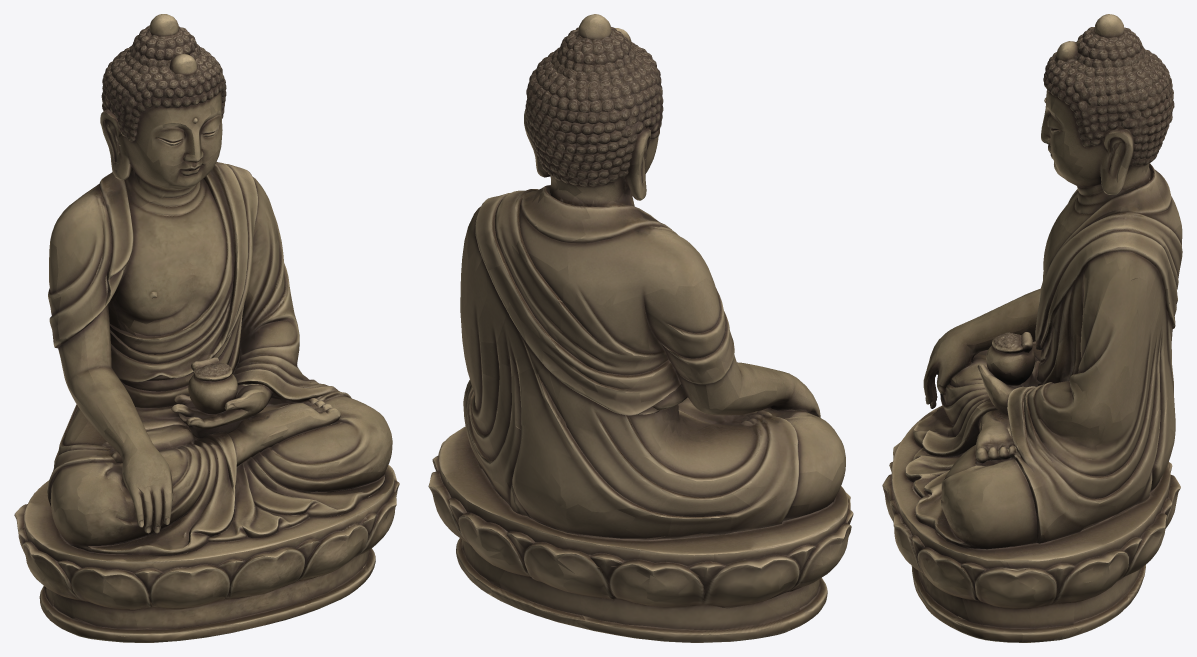
File: Meshy_AI_Korean_style_seated_M_1116074220_texture.glb
3 renders of one model, left to right at view 1: azimuth 30°, elevation 25°; view 2: azimuth 150°, elevation 25°; view 3: azimuth 270°, elevation 25°, orthographic. The views are drawn at different scales.
Visible parts, largest first — view 1: output_unwrapped; view 2: output_unwrapped; view 3: output_unwrapped.
Part boxes in pixels (x1,y1,x2,y2): output_unwrapped: (14, 14, 399, 642); output_unwrapped: (428, 14, 853, 642); output_unwrapped: (882, 14, 1182, 642).
Size of the model in its own units: 1.32 by 1.9 by 0.9371.
1 material, 1 textured.
